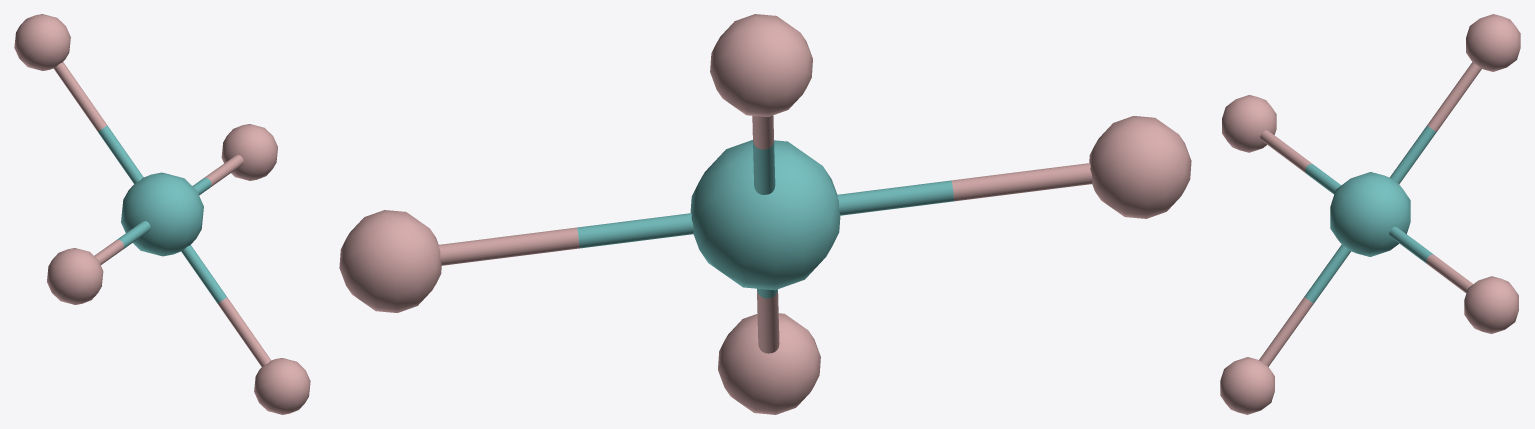
The model's file is XeF4.gltf.
3 renders of one model, left to right at view 1: azimuth 30°, elevation 25°; view 2: azimuth 150°, elevation 25°; view 3: azimuth 270°, elevation 25°, orthographic. The views are drawn at different scales.
Visible parts, largest first — view 1: vmd_mol6_rep0; view 2: vmd_mol6_rep0; view 3: vmd_mol6_rep0.
Boxes of the visible parts, left/top/right/bottom form: vmd_mol6_rep0: left=14, top=14, right=310, bottom=414; vmd_mol6_rep0: left=339, top=14, right=1191, bottom=414; vmd_mol6_rep0: left=1220, top=14, right=1520, bottom=414.
Bounding box in the file's own units: 2.05 × 1.9 × 1.54.
